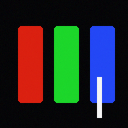4 line_v: (97, 77, 101, 117)
